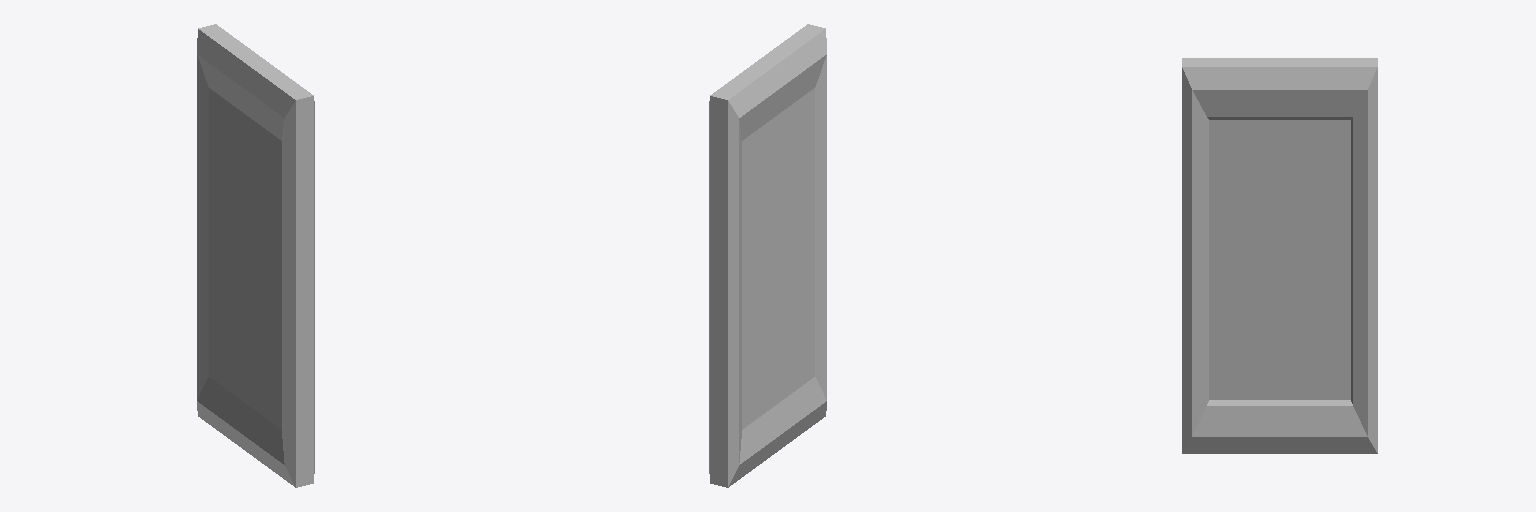
File: painting_long.obj
3 views of the same model, side by side, from view 1: azimuth 30°, elevation 25°; view 2: azimuth 150°, elevation 25°; view 3: azimuth 270°, elevation 25° (orthographic).
Visible parts, largest first — view 1: pCube3; view 2: pCube3; view 3: pCube3.
Part boxes in pixels (bbox=[...]): pCube3: bbox=[197, 24, 314, 487]; pCube3: bbox=[709, 24, 826, 487]; pCube3: bbox=[1182, 58, 1377, 453].
Bounding box in the file's own units: 0.314 × 3.83 × 1.75.